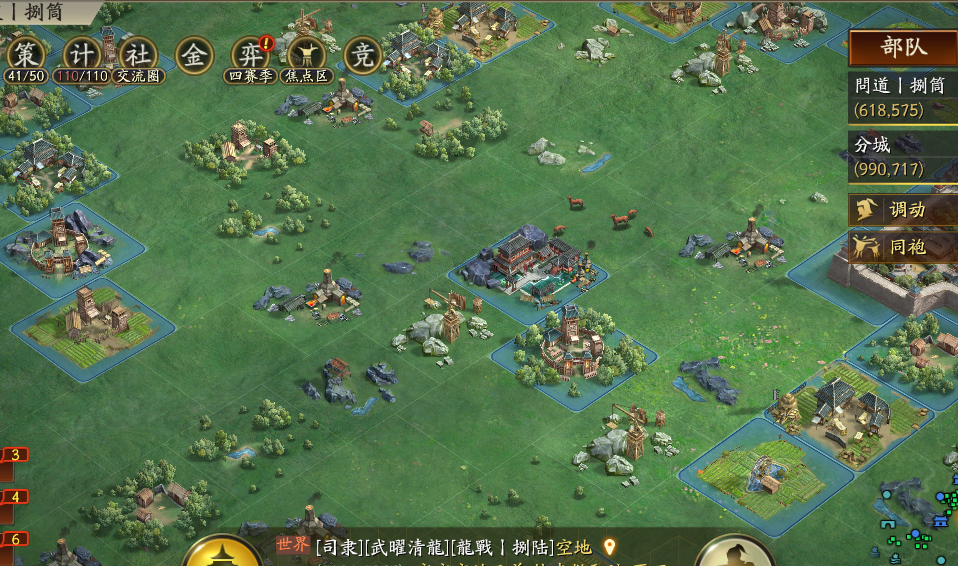lv05_wood_neutral: (55, 442, 250, 565)
